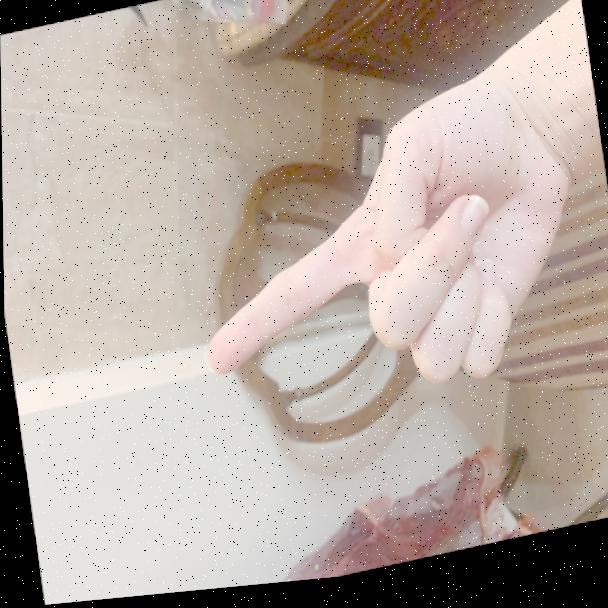one: (162, 52, 589, 439)
